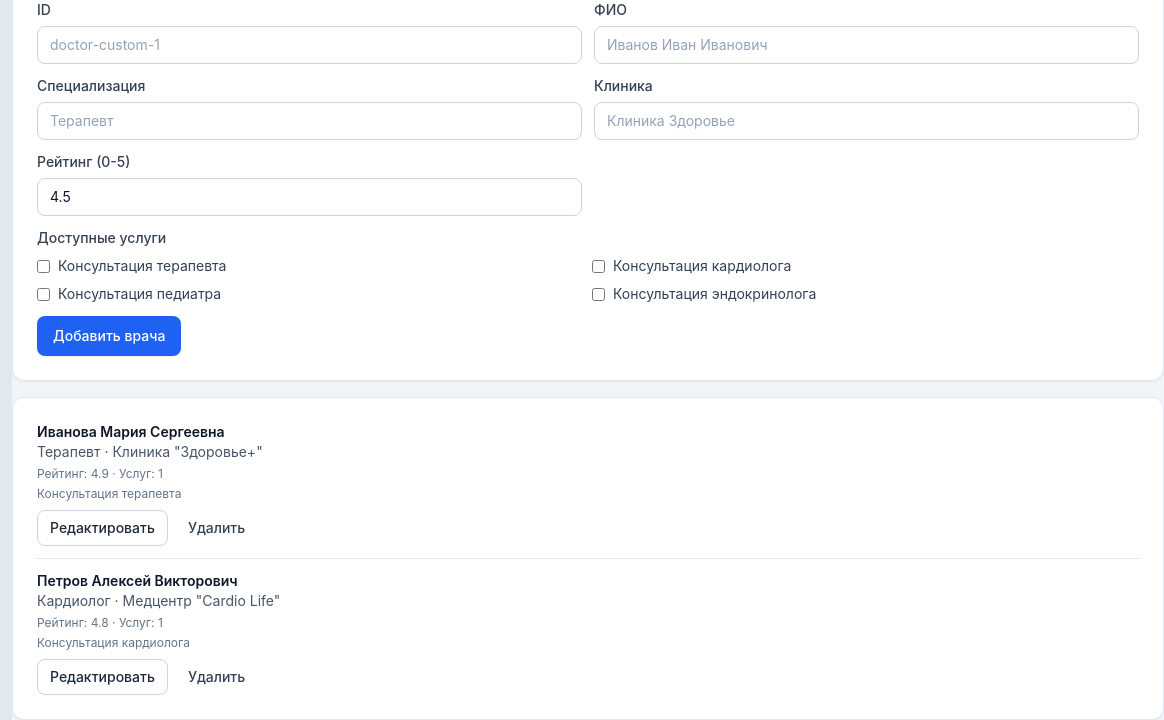
Test case: AdminDoctorsPage integration › удаляет врача из списка
(page scrolled)
expect the element "Петров Алексей Викторович" is shown: met, box x1=37 y1=558 x2=1139 y2=695
Click the button "Удалить" below "4.8" at (217, 677), box x1=176 y1=659 x2=257 y2=695
(page scrolled)
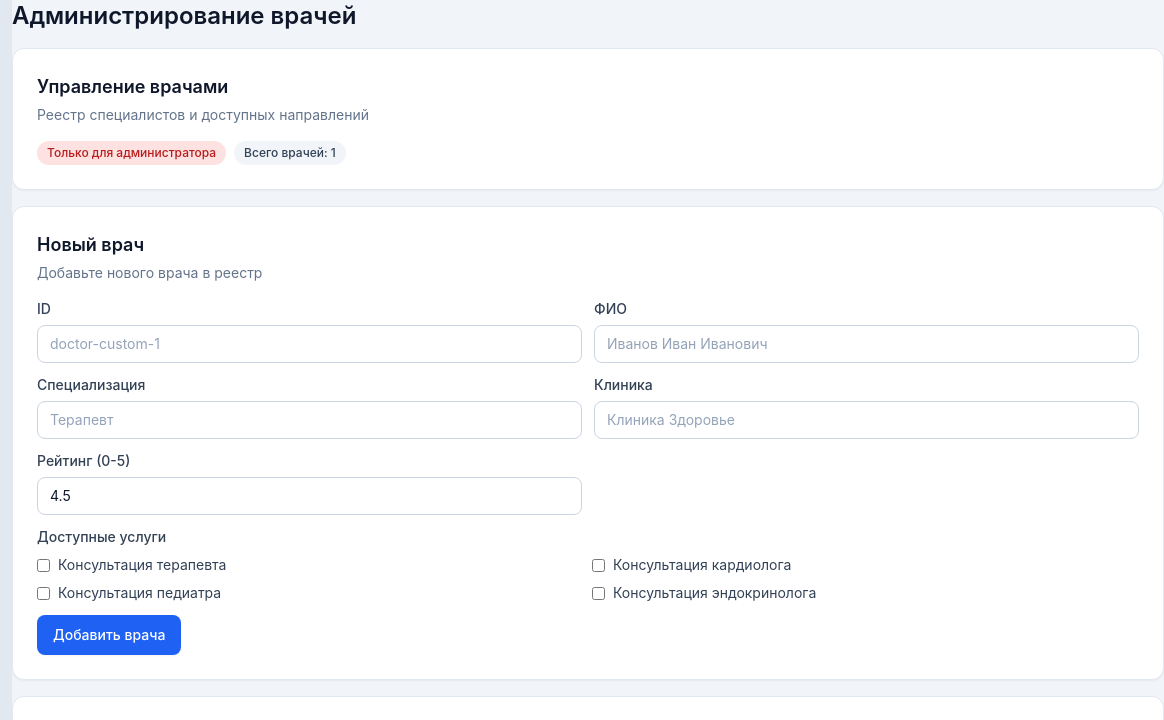
expect the heading "Петров Алексей Викторович" is gone: met
expect the text "Всего врачей: 1" is shown: met, box x1=234 y1=141 x2=346 y2=165
